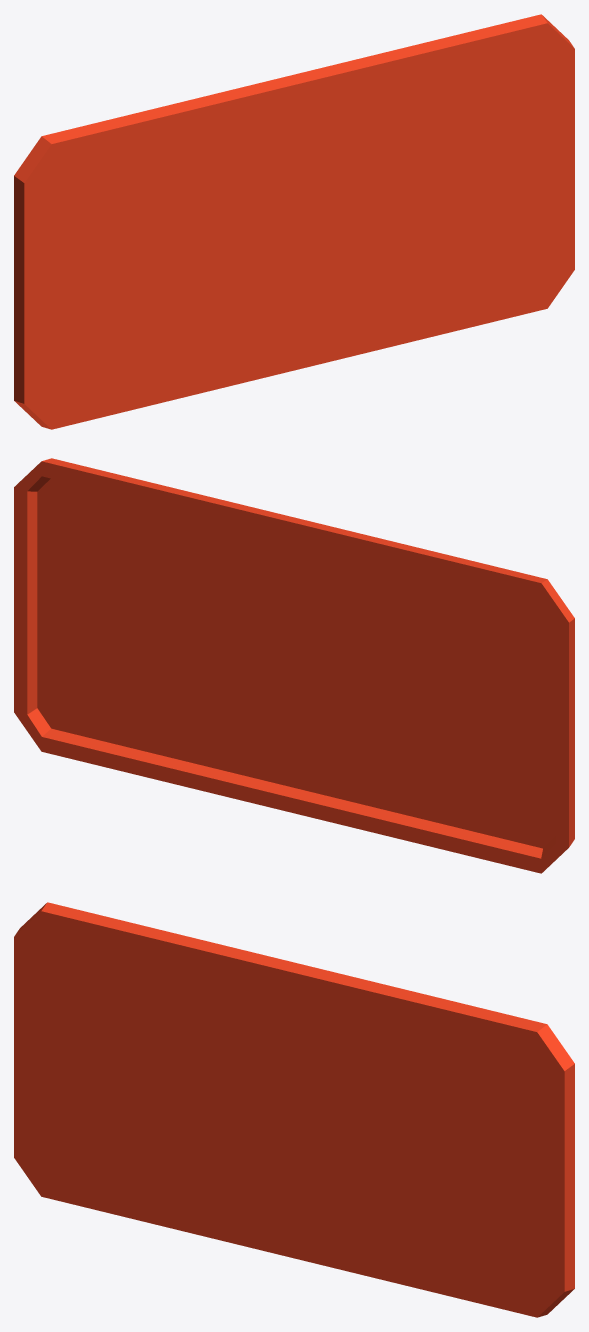
File: SM_Sign_Destination_Medium_City.fbx
3 views of the same model, one above another, from view 1: azimuth 30°, elevation 25°; view 2: azimuth 150°, elevation 25°; view 3: azimuth 330°, elevation 25° (orthographic).
Visible parts, largest first — view 1: SM_Sign_Destination_Medium_City; view 2: SM_Sign_Destination_Medium_City; view 3: SM_Sign_Destination_Medium_City.
Boxes of the visible parts, x1=… form: SM_Sign_Destination_Medium_City: x1=14, y1=14, x2=574, y2=429; SM_Sign_Destination_Medium_City: x1=14, y1=458, x2=574, y2=873; SM_Sign_Destination_Medium_City: x1=14, y1=902, x2=574, y2=1317.
Size of the model in its own units: 2 by 1 by 0.0511.
